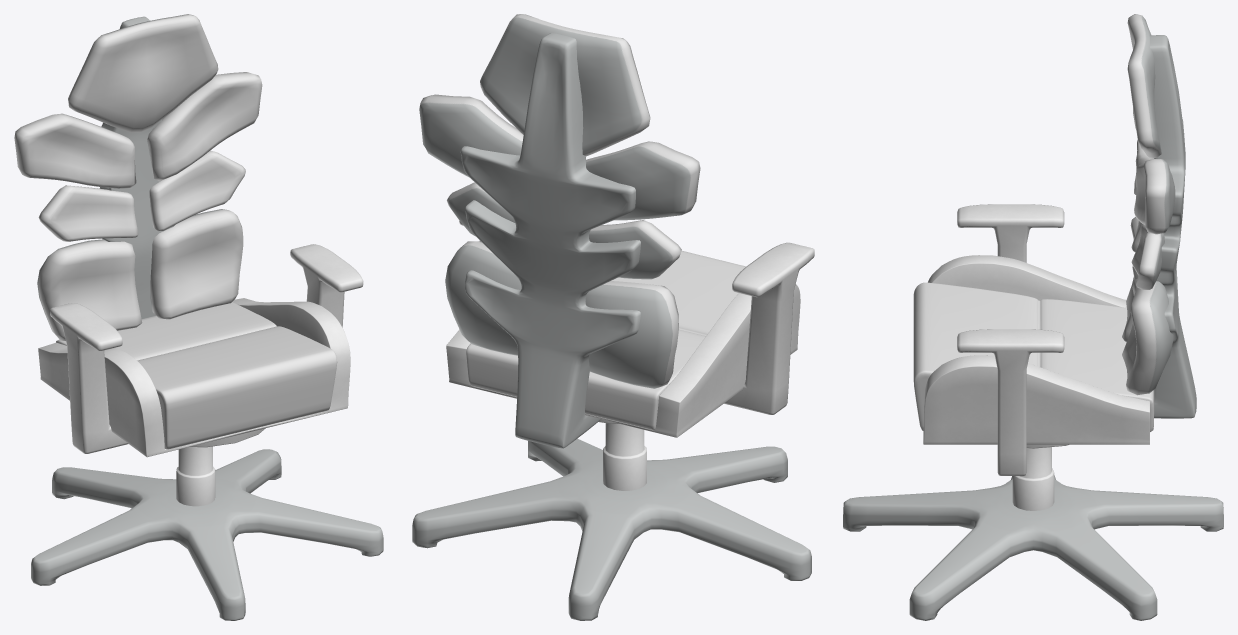
Rendered from DeskChair01.FBX.
3 views of the same model, side by side, from view 1: azimuth 30°, elevation 25°; view 2: azimuth 150°, elevation 25°; view 3: azimuth 270°, elevation 25° (orthographic). The views are drawn at different scales.
Parts seen in each view (by area): view 1: DeskChair01; view 2: DeskChair01; view 3: DeskChair01.
Part boxes in pixels (x1,y1,x2,y2): DeskChair01: (14, 14, 383, 620); DeskChair01: (412, 14, 814, 620); DeskChair01: (843, 14, 1223, 620).
Size of what is drawn, in the model's own units: 0.8877 by 1.37 by 0.9197.
